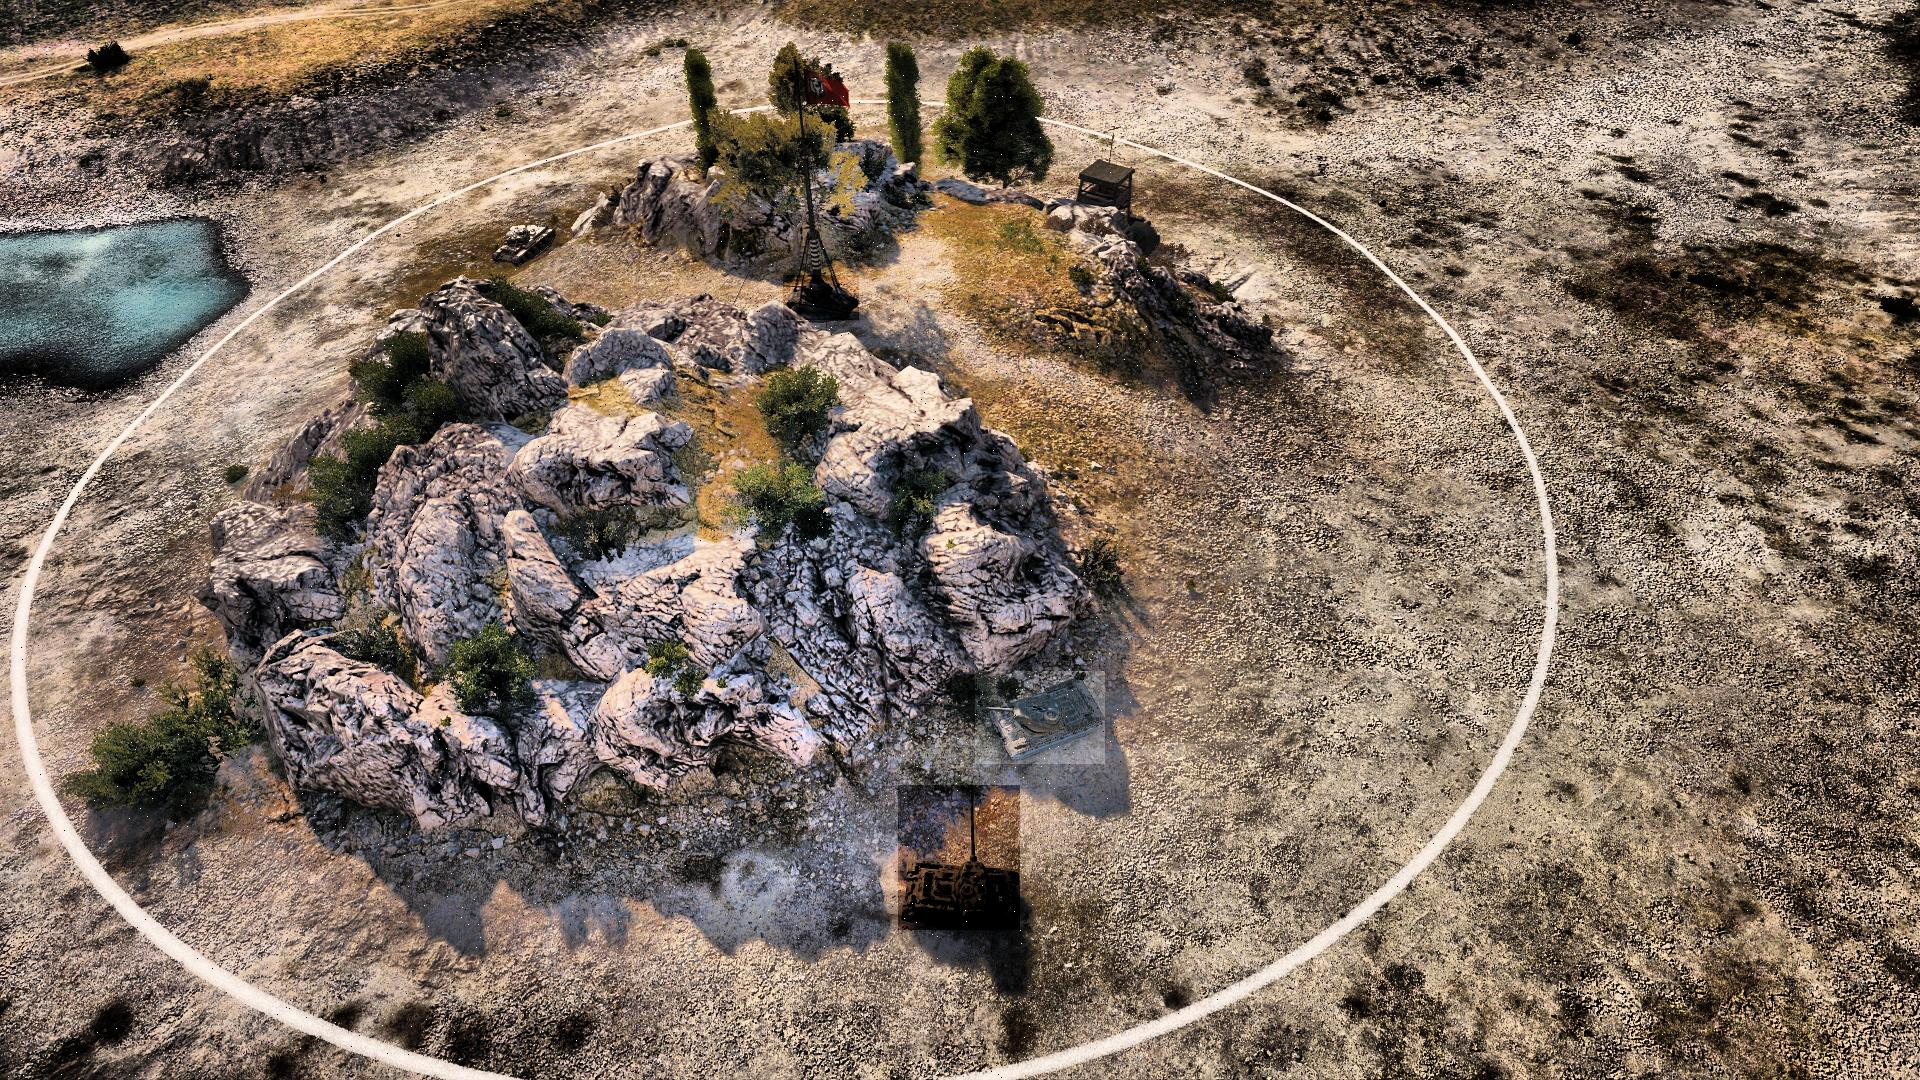military-vehicle: (898, 785, 1021, 930), (975, 671, 1105, 765), (783, 276, 860, 320), (487, 222, 560, 266)
